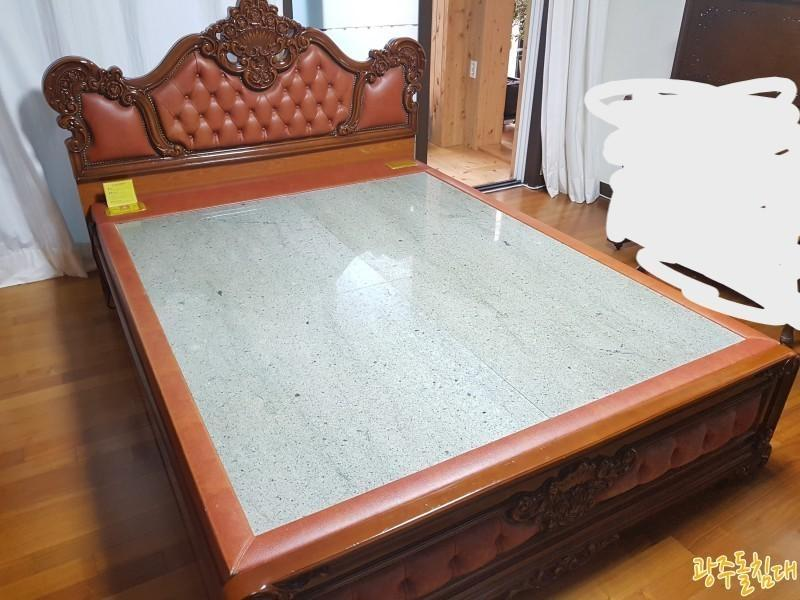Bed-Mattress: (16, 6, 780, 575)
